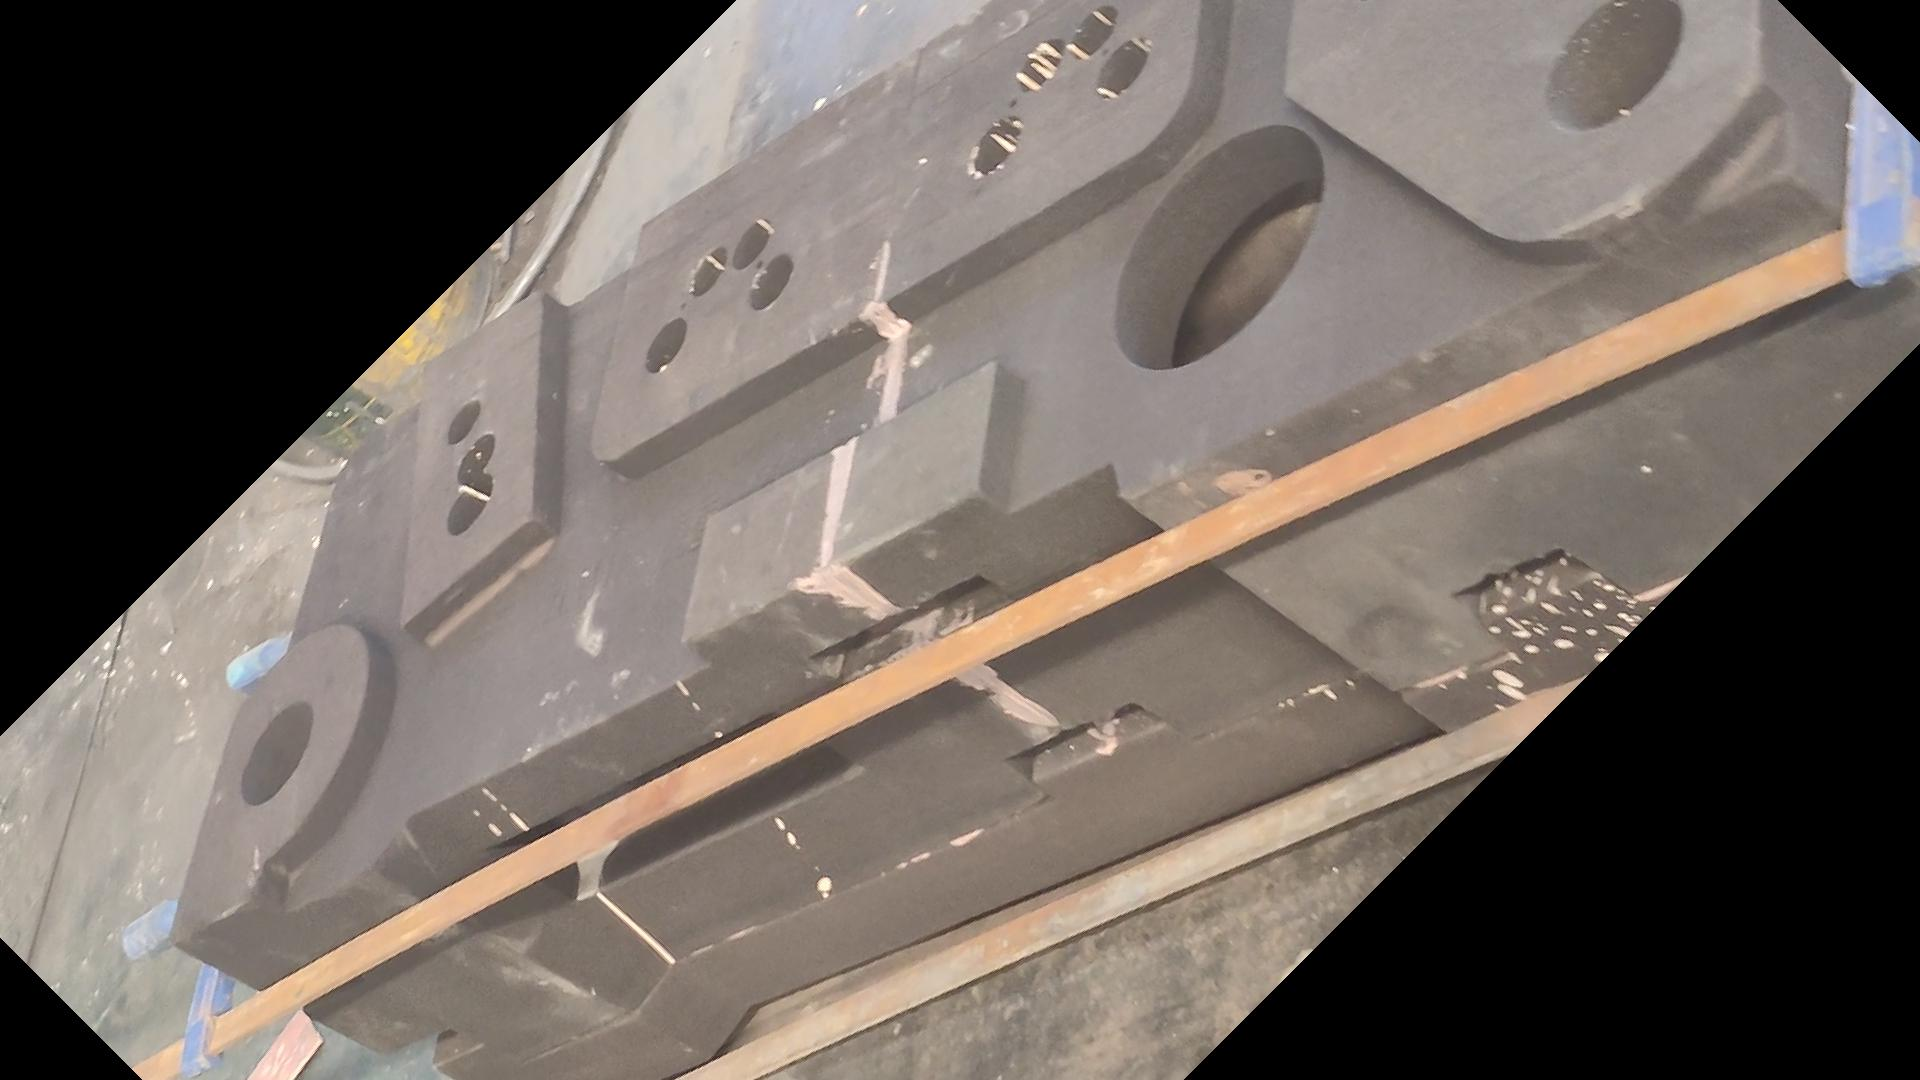pouring hole: (1542, 1, 1683, 135), (236, 698, 315, 807)
